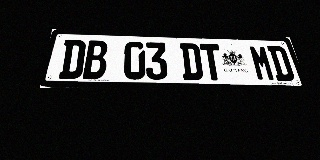0: (123, 41, 145, 80)
3: (146, 42, 168, 80)
B: (82, 40, 108, 79)
D: (58, 40, 86, 79), (267, 46, 296, 81), (180, 43, 204, 80)
M: (248, 45, 276, 81)
T: (199, 44, 225, 81)
